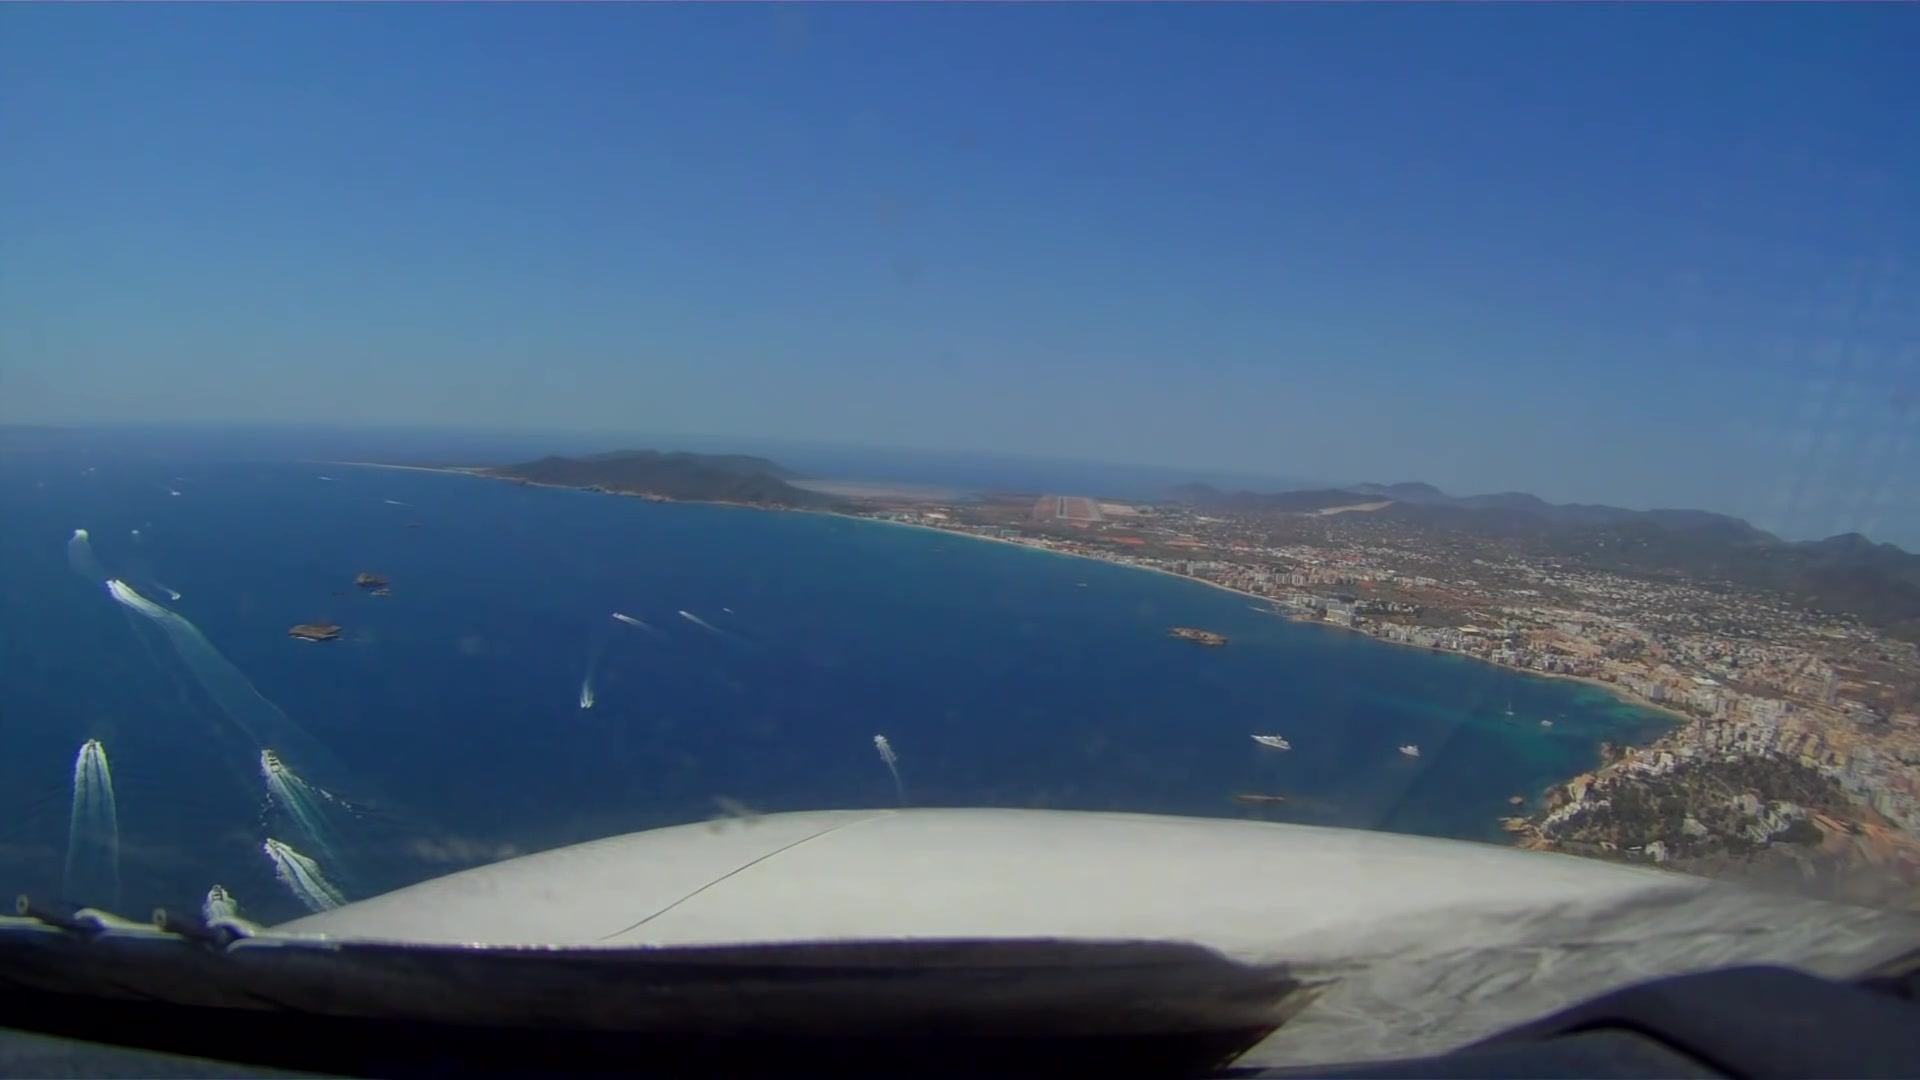runway: (1083, 497, 1106, 520), (1054, 495, 1072, 520)
